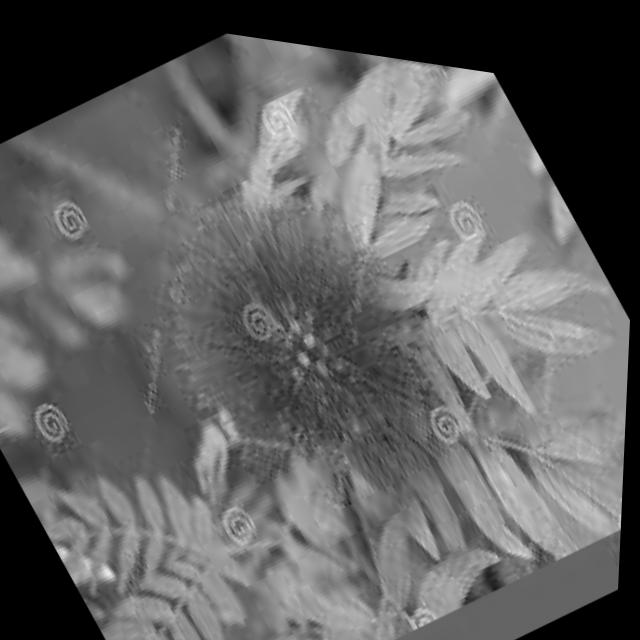Flower: (119, 120, 497, 561)
